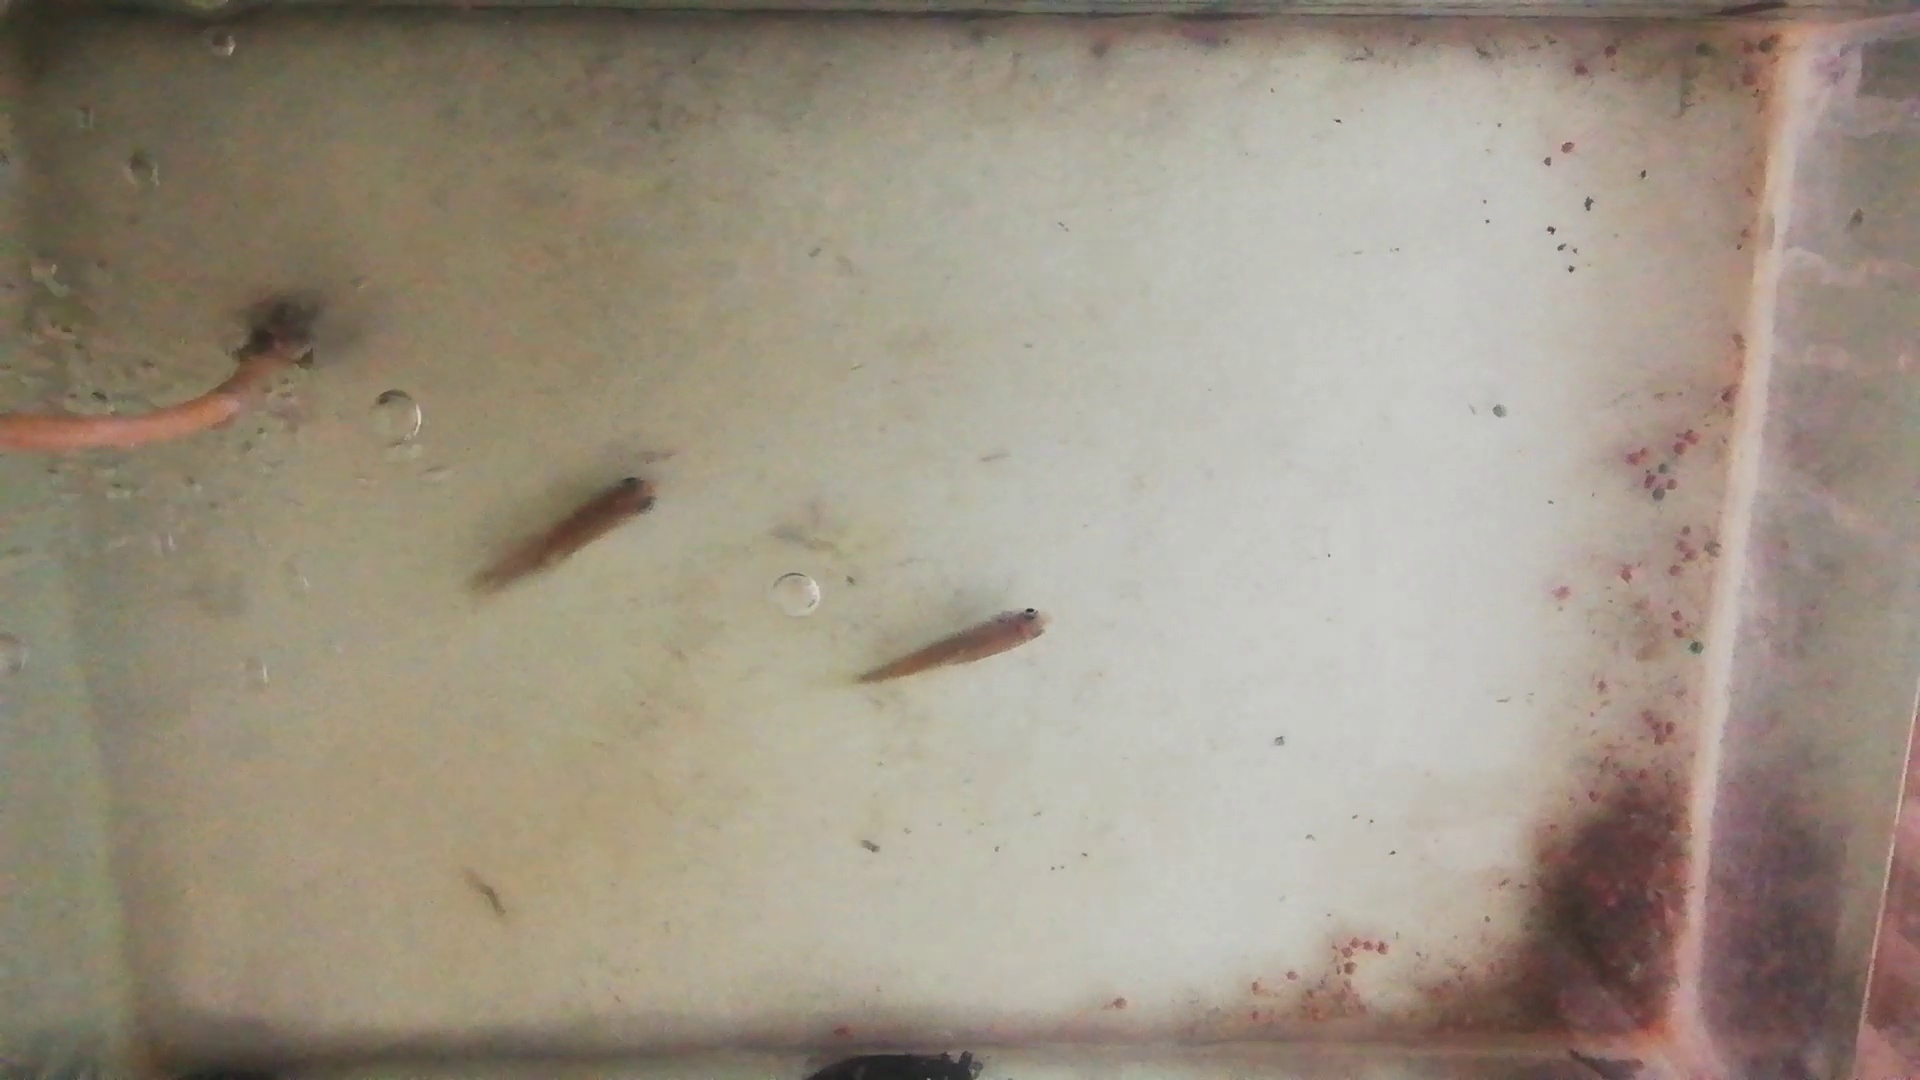fish: (469, 479, 657, 589), (864, 607, 1054, 678)
